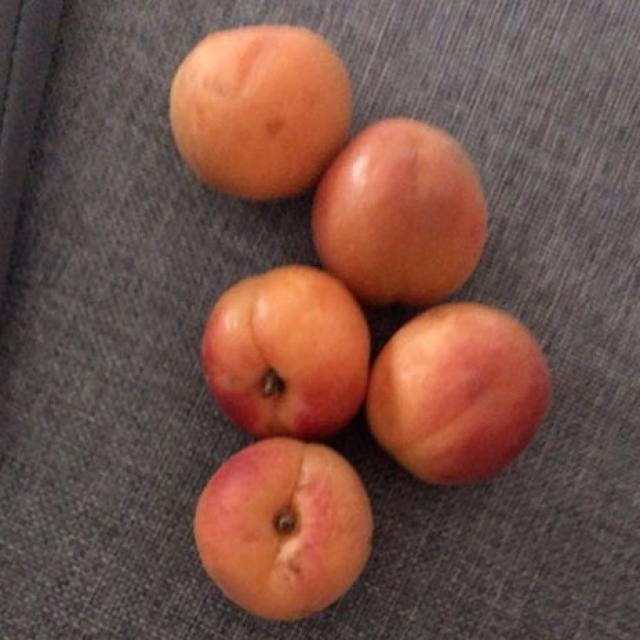apricots: (174, 41, 550, 598)
